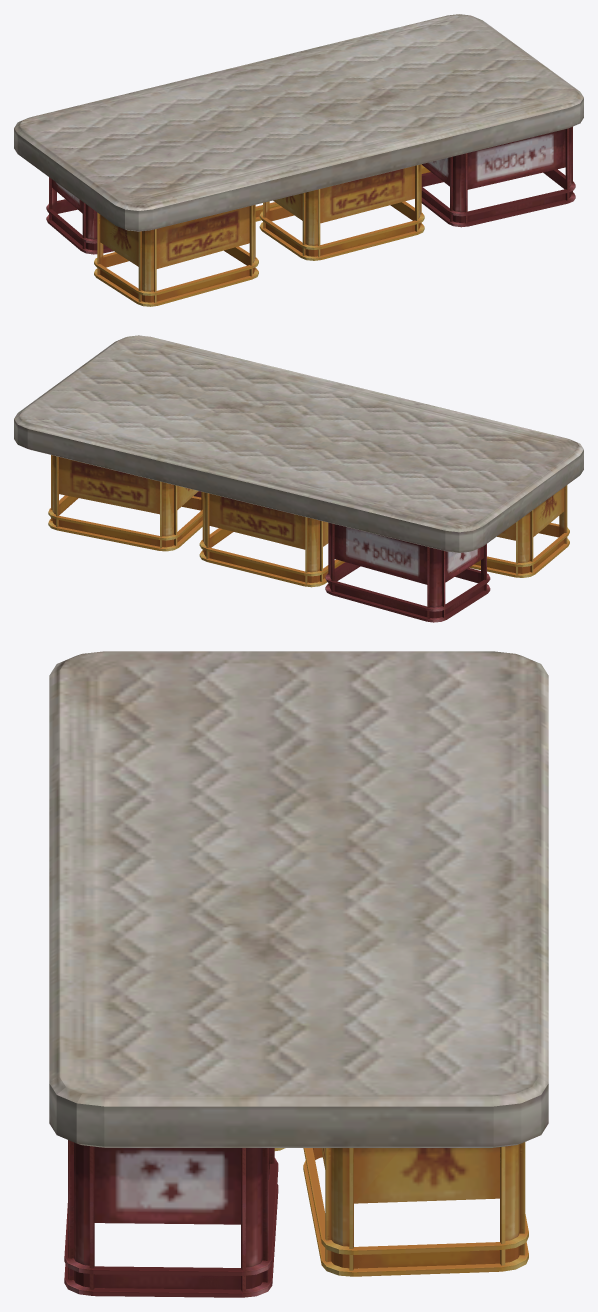
File: cama.obj
The picture shows the model from 3 angles, top to bottom: view 1: azimuth 30°, elevation 25°; view 2: azimuth 150°, elevation 25°; view 3: azimuth 270°, elevation 25°; orthographic projection. The views are drawn at different scales.
Parts seen in each view (by area): view 1: beercase00_meshId23.001; view 2: beercase00_meshId23.001; view 3: beercase00_meshId23.001.
Part boxes in pixels (left/top/right/bottom): beercase00_meshId23.001: left=14, top=14, right=583, bottom=306; beercase00_meshId23.001: left=14, top=335, right=583, bottom=622; beercase00_meshId23.001: left=49, top=651, right=548, bottom=1297.
Size of the model in its own units: 11.86 by 2.48 by 5.51.
2 materials, 2 textured.
